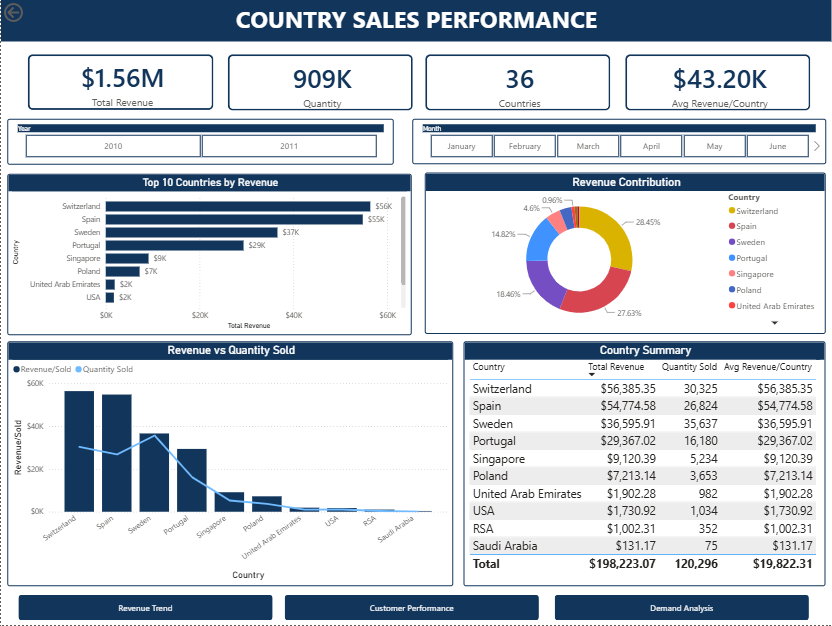

Layout of this report page (visuals, bound fields, positions):
{"tool":"powerbi","page":{"name":"Dashboard 2 - Country Performance","canvas":[1330,1000],"ordinal":1},"visuals":[{"type":"textbox","box":[0,0,1330,66.7],"z":0},{"type":"actionButton","box":[28.8,952.5,406.6,40.4],"z":0,"group":"g1"},{"type":"cardVisual","fields":{"Data":["Online Retail.Total Revenue"]},"box":[25.1,69.6,331.2,124],"z":1000},{"type":"actionButton","box":[887.7,952.5,406.6,40.4],"z":1000,"group":"g1"},{"type":"cardVisual","fields":{"Data":["Sum(Online Retail.Quantity)"]},"box":[346.2,70.4,330.7,124],"z":2000},{"type":"actionButton","box":[454.2,952.5,406.6,40.4],"z":2000,"group":"g1"},{"type":"cardVisual","fields":{"Data":["Count(Online Retail.Country)"]},"box":[661.2,70.4,330.7,124],"z":3000},{"type":"cardVisual","fields":{"Data":["Online Retail.Avg Revenue/Country"]},"box":[981.9,70.4,330.7,124],"z":4000},{"type":"slicer","fields":{"Values":["Online Retail.InvoiceDate.Variation.Date Hierarchy.Year"]},"box":[9.8,189.8,618.8,73.4],"z":5000},{"type":"actionButton","box":[0,0,100,40],"z":6000},{"type":"slicer","fields":{"Values":["Online Retail.InvoiceDate.Variation.Date Hierarchy.Month"]},"box":[657.3,190.2,662.4,73],"z":7000},{"type":"barChart","title":"Top 10 Countries by Revenue","fields":{"Category":["Online Retail.Country"],"Y":["Online Retail.Total Revenue"]},"box":[10.2,278.5,647.1,258.2],"z":8000},{"type":"donutChart","title":"Revenue Contribution","fields":{"Category":["Online Retail.Country"],"Y":["Online Retail.Total Revenue"]},"box":[677.7,276.8,642,258.2],"z":9000},{"type":"lineStackedColumnComboChart","title":"Revenue vs Quantity Sold","fields":{"Category":["Online Retail.Country"],"Y":["Online Retail.Total Revenue"],"Y2":["Sum(Online Retail.Quantity)"]},"box":[10.2,545.2,713.3,392.3],"z":10000},{"type":"tableEx","title":"Country Summary","fields":{"Values":["Online Retail.Country","Online Retail.Total Revenue","Sum(Online Retail.Quantity)","Online Retail.Avg Revenue/Country"]},"box":[740.5,545.2,579.1,392.3],"z":11000},{"type":"group","id":"g1","title":"Group 1","box":[28.8,952.5,1263.8,38.8],"z":12000}]}

Visuals, with their boxes in screenshot pixels (x1, y1, x2, y2), scaled from the page's 1330x1000 canvas onto the 832x626 screenshot:
textbox: {"left": 0, "top": 0, "right": 831, "bottom": 42}
actionButton: {"left": 18, "top": 596, "right": 272, "bottom": 622}
cardVisual - Online Retail.Total Revenue: {"left": 16, "top": 44, "right": 223, "bottom": 121}
actionButton: {"left": 555, "top": 596, "right": 810, "bottom": 622}
cardVisual - Sum(Online Retail.Quantity): {"left": 217, "top": 44, "right": 423, "bottom": 122}
actionButton: {"left": 284, "top": 596, "right": 538, "bottom": 622}
cardVisual - Count(Online Retail.Country): {"left": 414, "top": 44, "right": 620, "bottom": 122}
cardVisual - Online Retail.Avg Revenue/Country: {"left": 614, "top": 44, "right": 821, "bottom": 122}
slicer - Online Retail.InvoiceDate.Variation.Date Hierarchy.Year: {"left": 6, "top": 119, "right": 393, "bottom": 165}
actionButton: {"left": 0, "top": 0, "right": 63, "bottom": 25}
slicer - Online Retail.InvoiceDate.Variation.Date Hierarchy.Month: {"left": 411, "top": 119, "right": 826, "bottom": 165}
"Top 10 Countries by Revenue" barChart: {"left": 6, "top": 174, "right": 411, "bottom": 336}
"Revenue Contribution" donutChart: {"left": 424, "top": 173, "right": 826, "bottom": 335}
"Revenue vs Quantity Sold" lineStackedColumnComboChart: {"left": 6, "top": 341, "right": 453, "bottom": 587}
"Country Summary" tableEx: {"left": 463, "top": 341, "right": 825, "bottom": 587}
"Group 1" group: {"left": 18, "top": 596, "right": 809, "bottom": 621}
